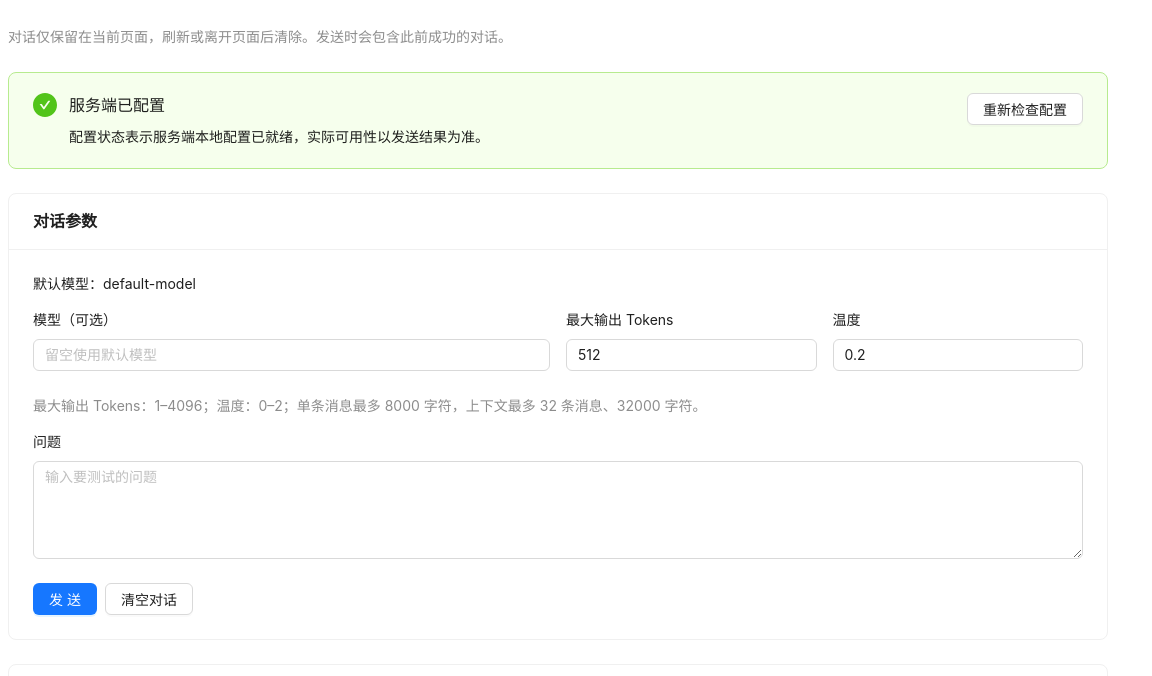
Test: AI dialogue at the HTTP boundary › renders model output as text without interpreting HTML
Expected: the text "服务端已配置" is shown, [69,95,165,115]
Type "你好" into the text box labelled "问题" at (558, 510), box [33,461,1083,559]
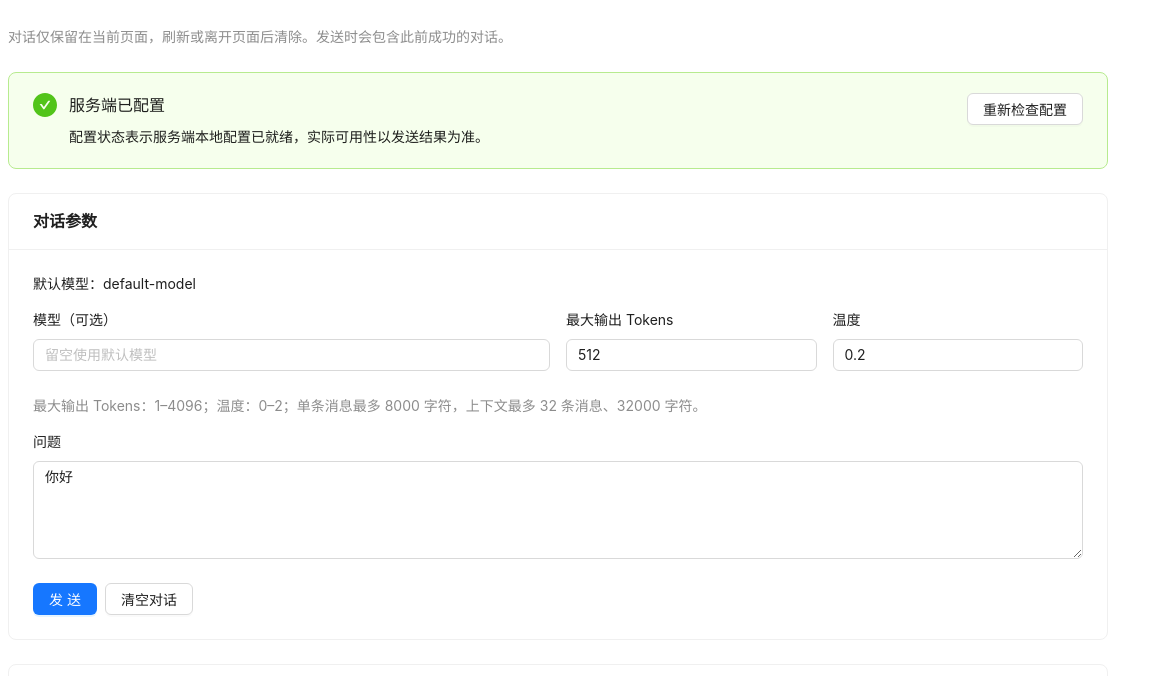
Click the button named "发送" at (65, 599), box [33,583,97,615]
(page scrolled)
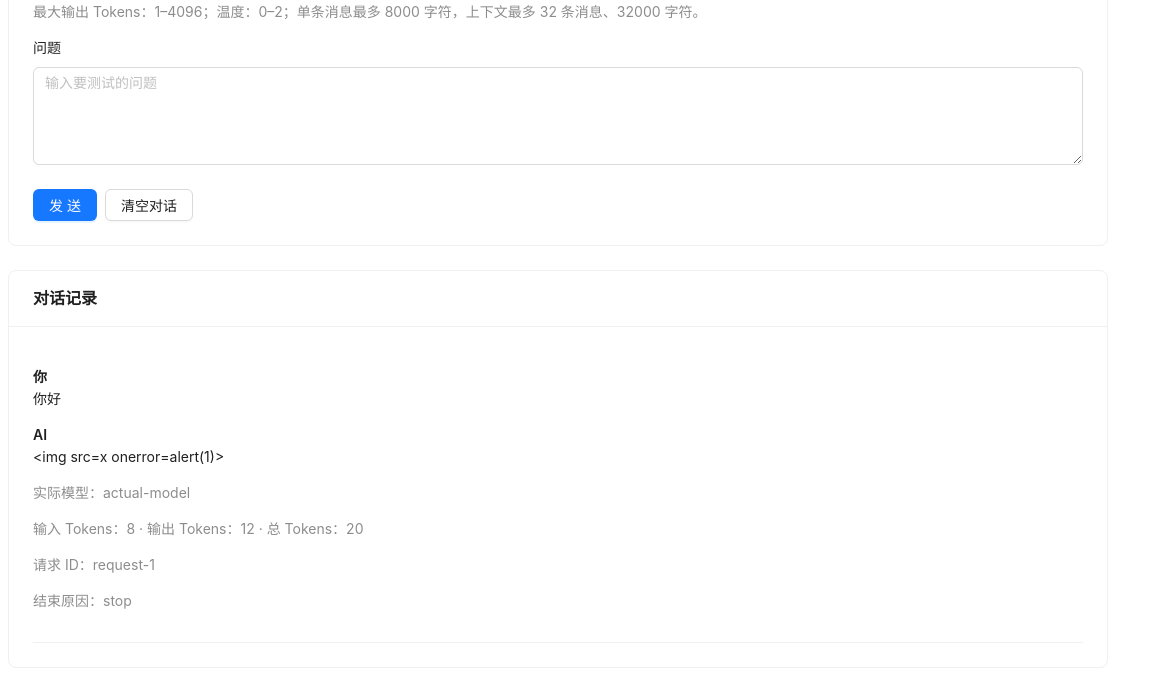
Expected: the text "<img src=x onerror=alert(1)>" is shown, [33,448,224,465]
